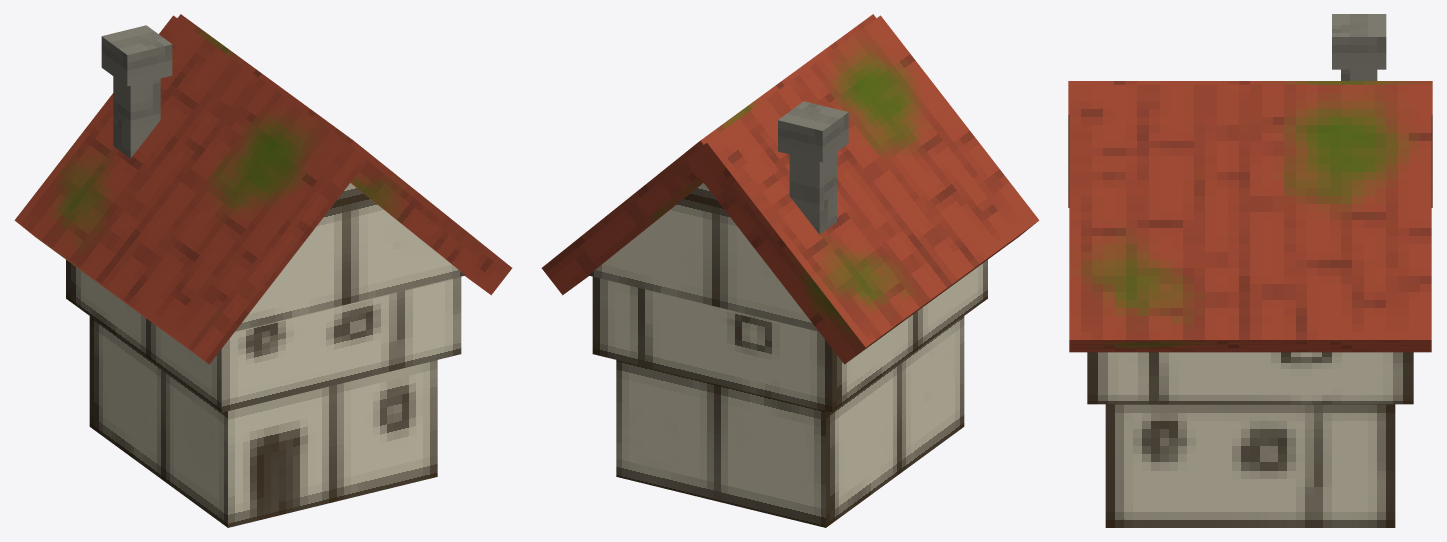
Rendered from House2.obj.
3 views of the same model, side by side, from view 1: azimuth 30°, elevation 25°; view 2: azimuth 150°, elevation 25°; view 3: azimuth 270°, elevation 25° (orthographic). The views are drawn at different scales.
Parts seen in each view (by area): view 1: cuboid, pyramid; view 2: cuboid, pyramid; view 3: cuboid.
Boxes of the visible parts, x1,y1,x2,y2 form: cuboid: (14,14,512,527); pyramid: (235,183,465,331); cuboid: (541,14,1039,527); pyramid: (588,183,818,331); cuboid: (1068,14,1432,527).
Size of the model in its own units: 1.35 by 1.56 by 1.26.
